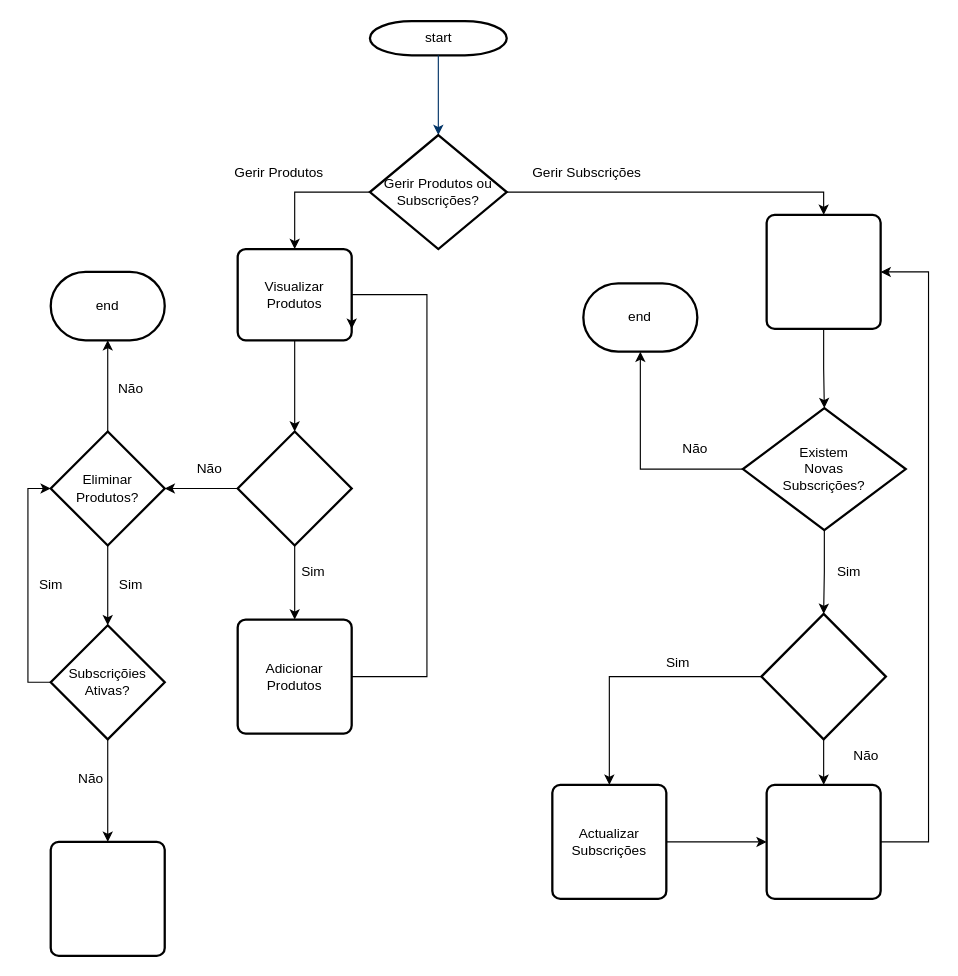
This 958x976 diagram has some shape labels left out. Each missing label, with the centre of its shape:
"Aceitar Subscrições?" belongs at pixel 823 676.
"Adicionar Produtos?" belongs at pixel 294 488.
"Elminar Produtos" belongs at pixel 107 898.
"Notificar Consumidor" belongs at pixel 823 841.
"Visualizar Subscrições" belongs at pixel 823 271.
